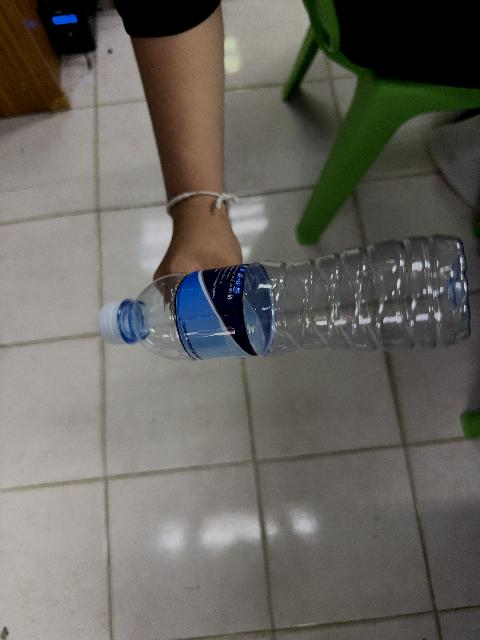bottle: (99, 236, 469, 359)
